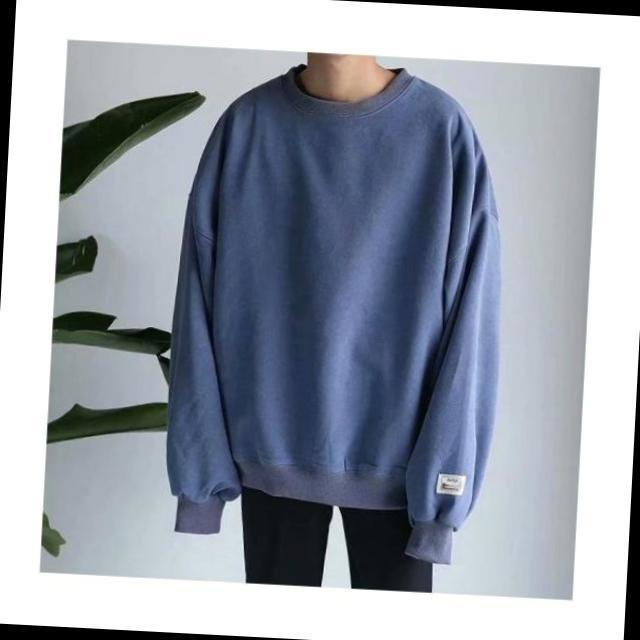sweater: (164, 58, 502, 569)
trousers: (236, 476, 434, 595)
